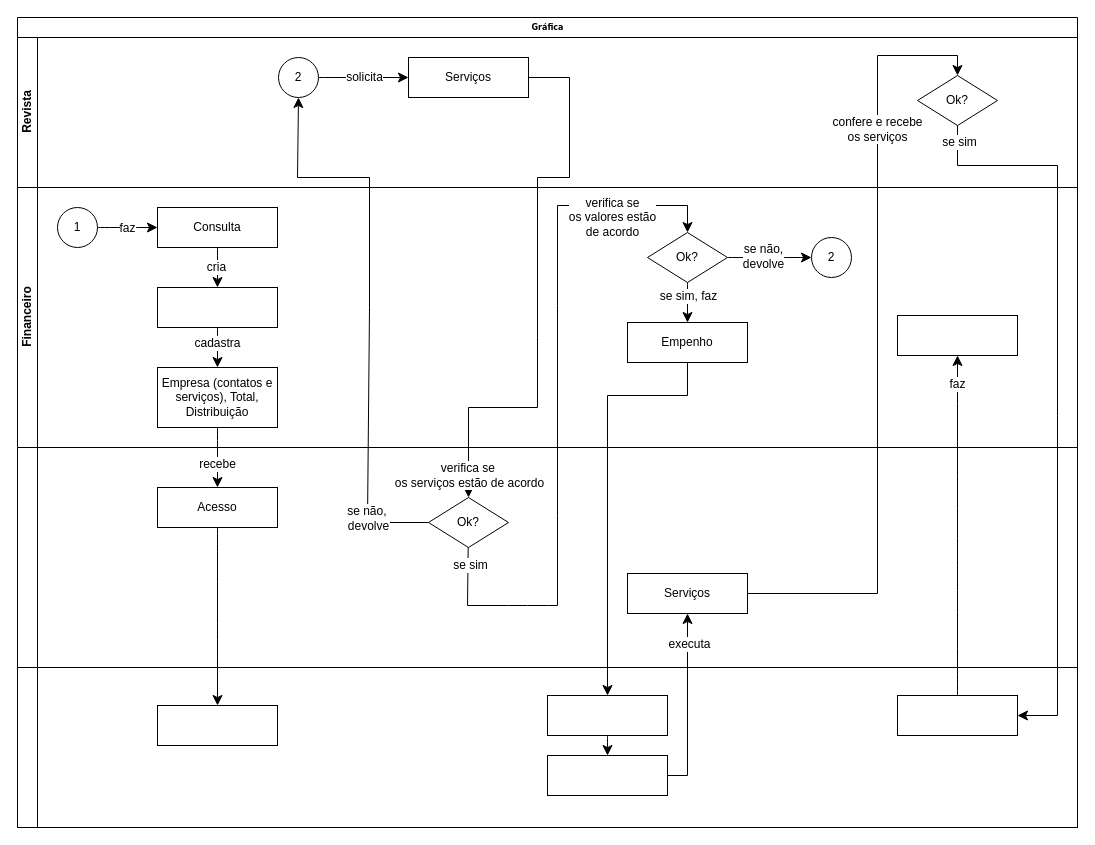
Image size: 1095x845. Some labels were removed from this diagram. Each missing label, with the box of its shape:
Debita o valor e atualiza o saldo: (546, 694, 668, 736)
Empresa: (16, 446, 1078, 668)
Licitação: (156, 286, 278, 328)
Notifica a Empresa para execução: (546, 754, 668, 796)
Notifica a Revista: (156, 704, 278, 746)
Notifica o Financeiro para pagamento: (896, 694, 1018, 736)
Pagamento: (896, 314, 1018, 356)
Sistema: (16, 666, 1078, 828)
